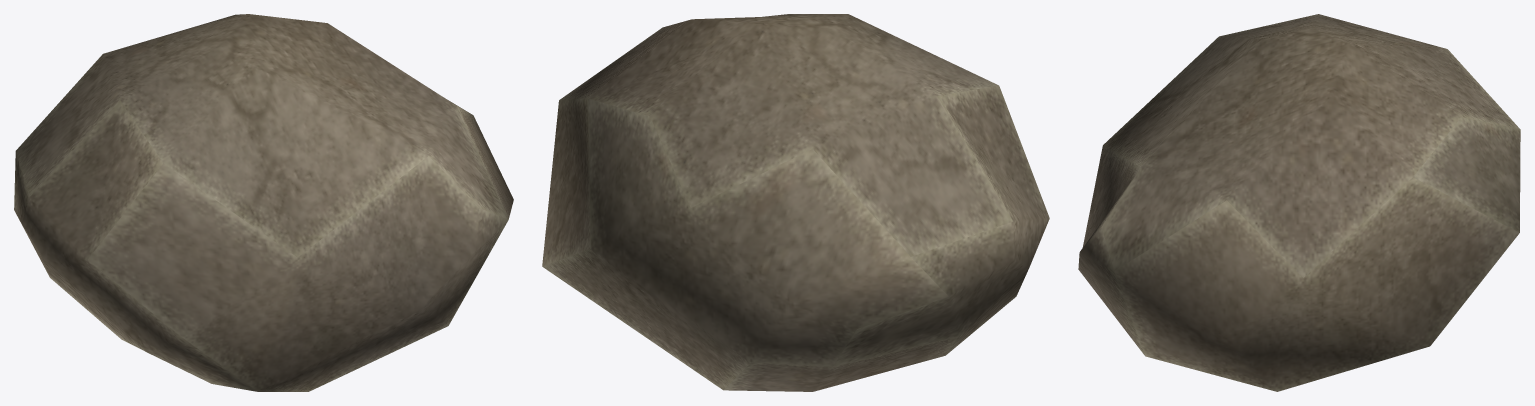
File: Rock_07.fbx
The picture shows the model from 3 angles, left to right: view 1: azimuth 30°, elevation 25°; view 2: azimuth 150°, elevation 25°; view 3: azimuth 270°, elevation 25°; orthographic projection. The views are drawn at different scales.
Parts seen in each view (by area): view 1: Rock_07; view 2: Rock_07; view 3: Rock_07.
Boxes of the visible parts, x1,y1,x2,y2 form: Rock_07: [14, 14, 513, 391]; Rock_07: [542, 14, 1049, 391]; Rock_07: [1078, 14, 1520, 391].
Size of the model in its own units: 2.02 by 1.43 by 1.78.
1 material, 1 textured.
